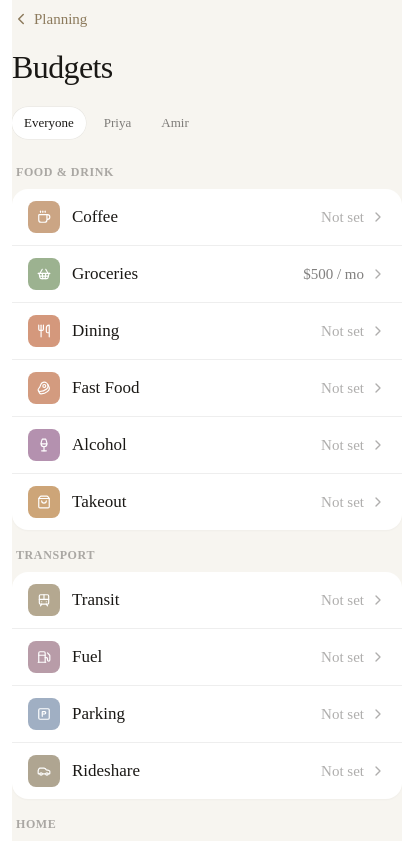
Test: Budgets page — whose budgets › shows a person’s own limits when they are selected
This screenshot has width=414, height=841.
Click the tab "Priya" at [118, 123], box [92,107,143,139]
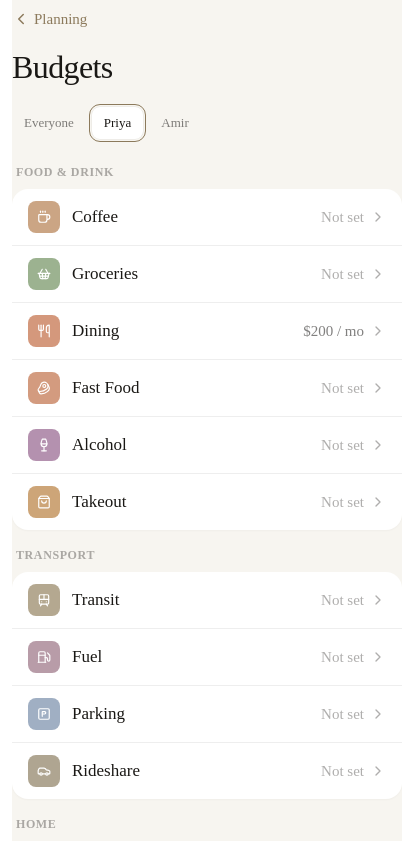
Now the text "$200 / mo" is shown, box [303,320,364,342]
Now the 2nd text "Not set" is shown, box [321,262,364,285]
